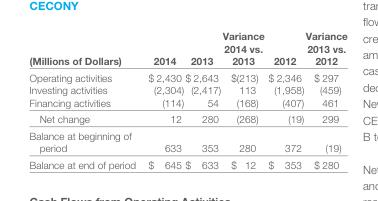table: (28, 29, 346, 169)
table column: (28, 29, 141, 169), (220, 29, 265, 169), (141, 29, 183, 169), (304, 29, 346, 169), (265, 29, 304, 169), (183, 29, 220, 169)
table column header: (28, 29, 346, 68)
table row: (28, 29, 346, 68), (28, 126, 346, 155), (28, 110, 346, 126), (28, 68, 346, 83), (28, 95, 346, 110), (28, 155, 346, 169), (28, 83, 346, 95)
